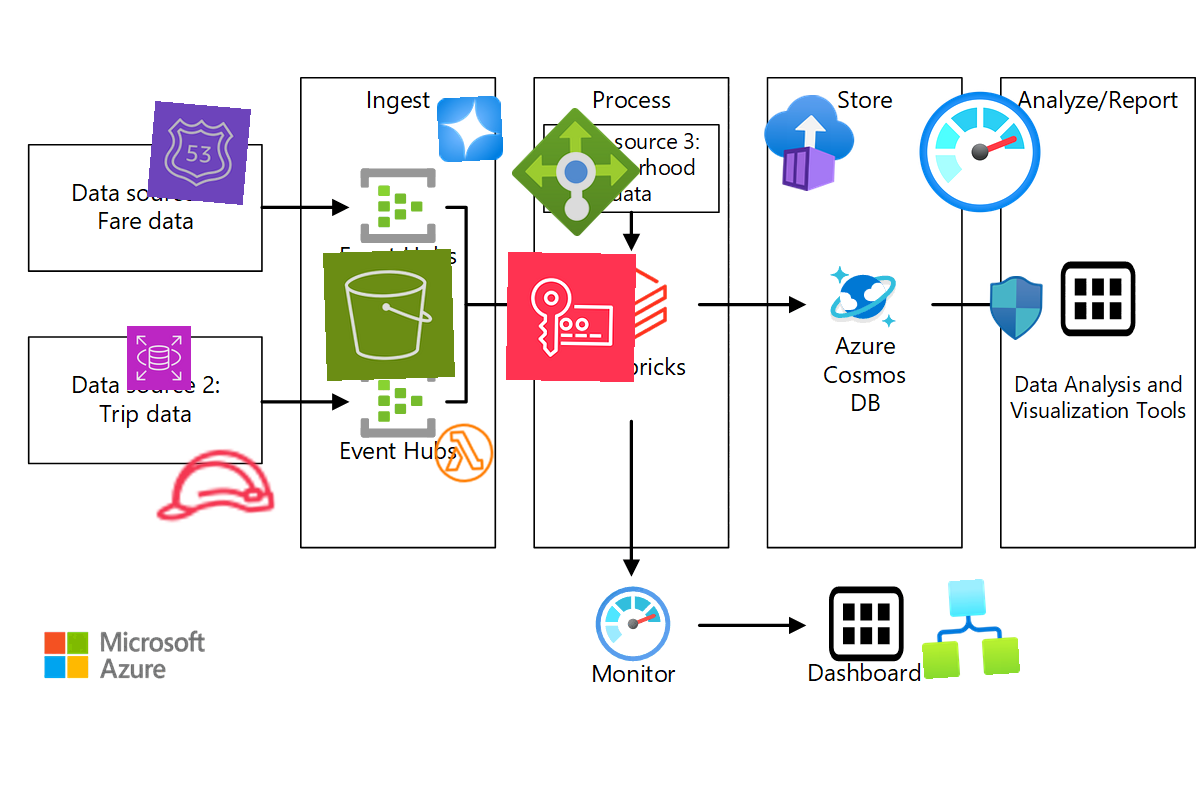aws_amazon_rds: (126, 325, 192, 391)
aws_amazon_route_53: (146, 100, 252, 206)
aws_amazon_simple_storage_service: (323, 249, 455, 381)
aws_identity_access_management_role: (146, 417, 282, 553)
aws_key_management_service: (505, 251, 637, 383)
aws_lambda_lambda_function: (430, 419, 498, 487)
azure_container_instances: (758, 92, 860, 194)
azure_load_balancers: (510, 106, 642, 238)
azure_logic_apps: (917, 576, 1021, 680)
azure_monitor: (915, 87, 1045, 217)
azure_network_security_groups: (983, 275, 1049, 341)
azure_openai: (436, 95, 504, 163)
